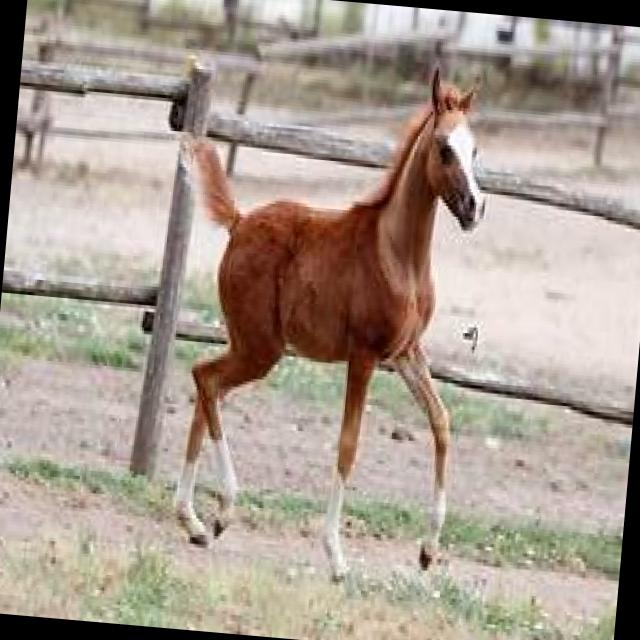animal: (142, 39, 498, 592)
